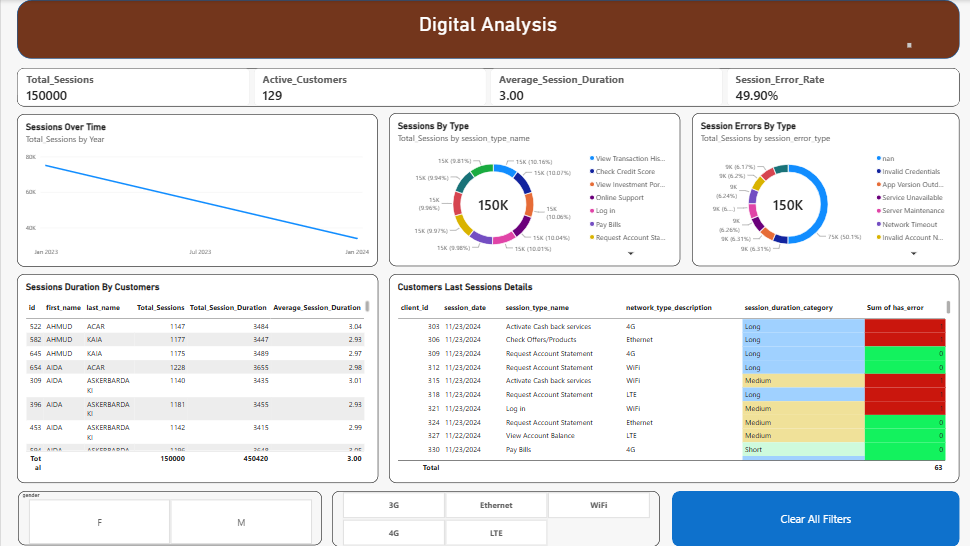

Layout of this report page (visuals, bound fields, positions):
{"tool":"powerbi","page":{"name":"Digital Analysis","canvas":[1920,1080],"ordinal":2},"visuals":[{"type":"cardVisual","fields":{"Data":["Measures_Table.Total_Sessions","Measures_Table.Active_Customers","Measures_Table.Average_Session_Duration","Measures_Table.Session_Error_Rate"]},"box":[30.8,133.3,1858.5,75.9],"z":0},{"type":"donutChart","title":"Sessions By Type","fields":{"Y":["Measures_Table.Total_Sessions"],"Category":["Fact_Sessions.session_type_name"]},"box":[765.1,223.6,574.4,301.5],"z":1000},{"type":"donutChart","title":"Session Errors By Type","fields":{"Y":["Measures_Table.Total_Sessions"],"Category":["Fact_Sessions.session_error_type"]},"box":[1362.1,223.6,527.2,301.5],"z":2000},{"type":"tableEx","title":"Customers Last Sessions Details","fields":{"Values":["Fact_Sessions.client_id","Fact_Sessions.session_date","Fact_Sessions.session_type_name","Fact_Sessions.network_type_description","Fact_Sessions.session_duration_category","Sum(Fact_Sessions.has_error)"]},"box":[765.1,539.5,1124.1,412.3],"z":3000},{"type":"shape","box":[31,0,1857.8,115.8],"z":4000},{"type":"textbox","title":"Digital Analysis","box":[126.2,22.8,1667.6,70.3],"z":5000},{"type":"slicer","title":"Applications By Type","fields":{"Values":["Fact_Sessions.network_type_description"]},"box":[651.7,968.3,645.5,109.7],"z":7000},{"type":"actionButton","box":[1322.1,968.3,566.9,109.7],"z":8000},{"type":"tableEx","title":"Sessions Duration By Customers","fields":{"Values":["Customers.id","Customers.first_name","Customers.last_name","Measures_Table.Total_Sessions","Measures_Table.Total_Session_Duration","Measures_Table.Average_Session_Duration"]},"box":[30.8,539.5,711.8,412.3],"z":9000},{"type":"lineChart","title":"Sessions Over Time","fields":{"Y":["Measures_Table.Total_Sessions"],"Category":["DimDate.Date.Variation.Date Hierarchy.Year","DimDate.Date.Variation.Date Hierarchy.Month"]},"box":[32.2,224.4,711.1,301.1],"z":10000},{"type":"slicer","title":"Applications By Type","fields":{"Values":["Customers.gender"]},"box":[33,968.3,598.7,107.4],"z":10001}]}

Visuals, with their boxes in screenshot pixels (x1, y1, x2, y2), scaled from the page's 1920x1080 canvas onto the 970x546 screenshot:
cardVisual - Measures_Table.Total_Sessions x Measures_Table.Active_Customers: crop(16, 67, 954, 106)
"Sessions By Type" donutChart: crop(387, 113, 677, 265)
"Session Errors By Type" donutChart: crop(688, 113, 954, 265)
"Customers Last Sessions Details" tableEx: crop(387, 273, 954, 481)
shape: crop(16, 0, 954, 59)
"Digital Analysis" textbox: crop(64, 12, 906, 47)
"Applications By Type" slicer: crop(329, 490, 655, 545)
actionButton: crop(668, 490, 954, 545)
"Sessions Duration By Customers" tableEx: crop(16, 273, 375, 481)
"Sessions Over Time" lineChart: crop(16, 113, 376, 266)
"Applications By Type" slicer: crop(17, 490, 319, 544)
